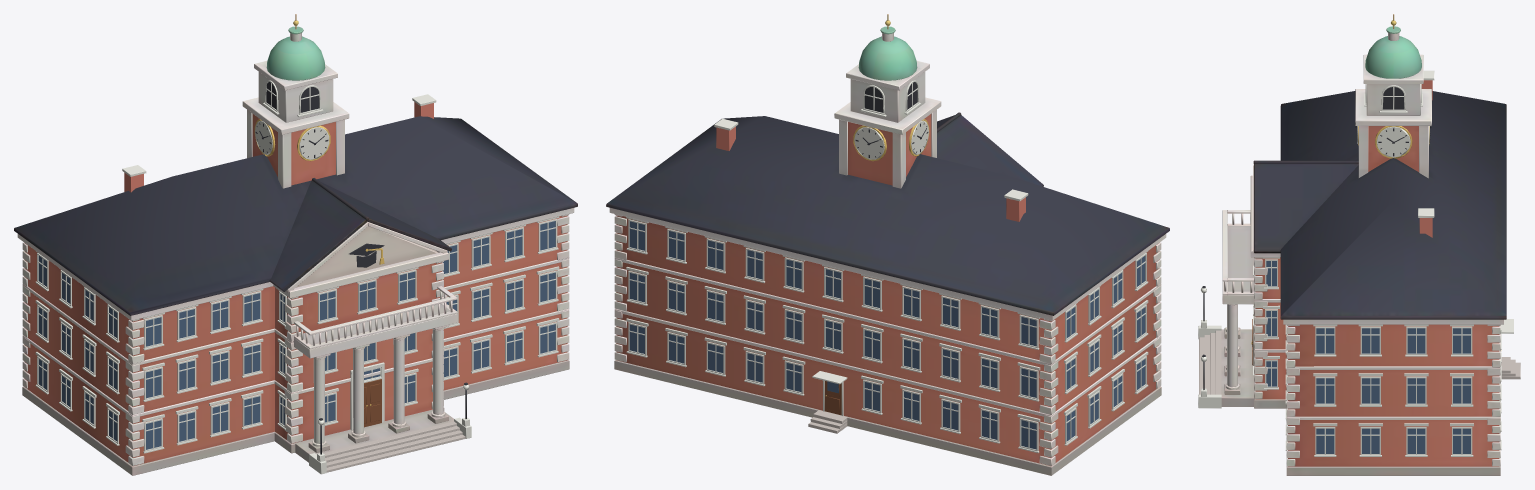
File: university-building-5ccf2a51.glb
3 views of the same model, side by side, from view 1: azimuth 30°, elevation 25°; view 2: azimuth 150°, elevation 25°; view 3: azimuth 270°, elevation 25° (orthographic). The views are drawn at different scales.
Parts seen in each view (by area): view 1: university-building_body, university-building_cap_emblem; view 2: university-building_body, university-building_cap_emblem; view 3: university-building_body, university-building_cap_emblem.
Boxes of the visible parts, x1=… form: university-building_body: x1=14, y1=14, x2=577, y2=475; university-building_cap_emblem: x1=35, y1=80, x2=559, y2=474; university-building_body: x1=606, y1=14, x2=1169, y2=475; university-building_cap_emblem: x1=626, y1=80, x2=1148, y2=452; university-building_body: x1=1221, y1=14, x2=1506, y2=475; university-building_cap_emblem: x1=1198, y1=70, x2=1520, y2=456.
Bounding box in the file's own units: 30.9 × 24.3 × 19.8.
2 materials, 2 textured.
